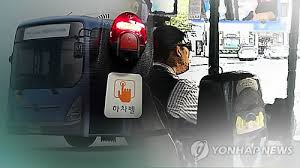bell: (108, 10, 150, 70)
